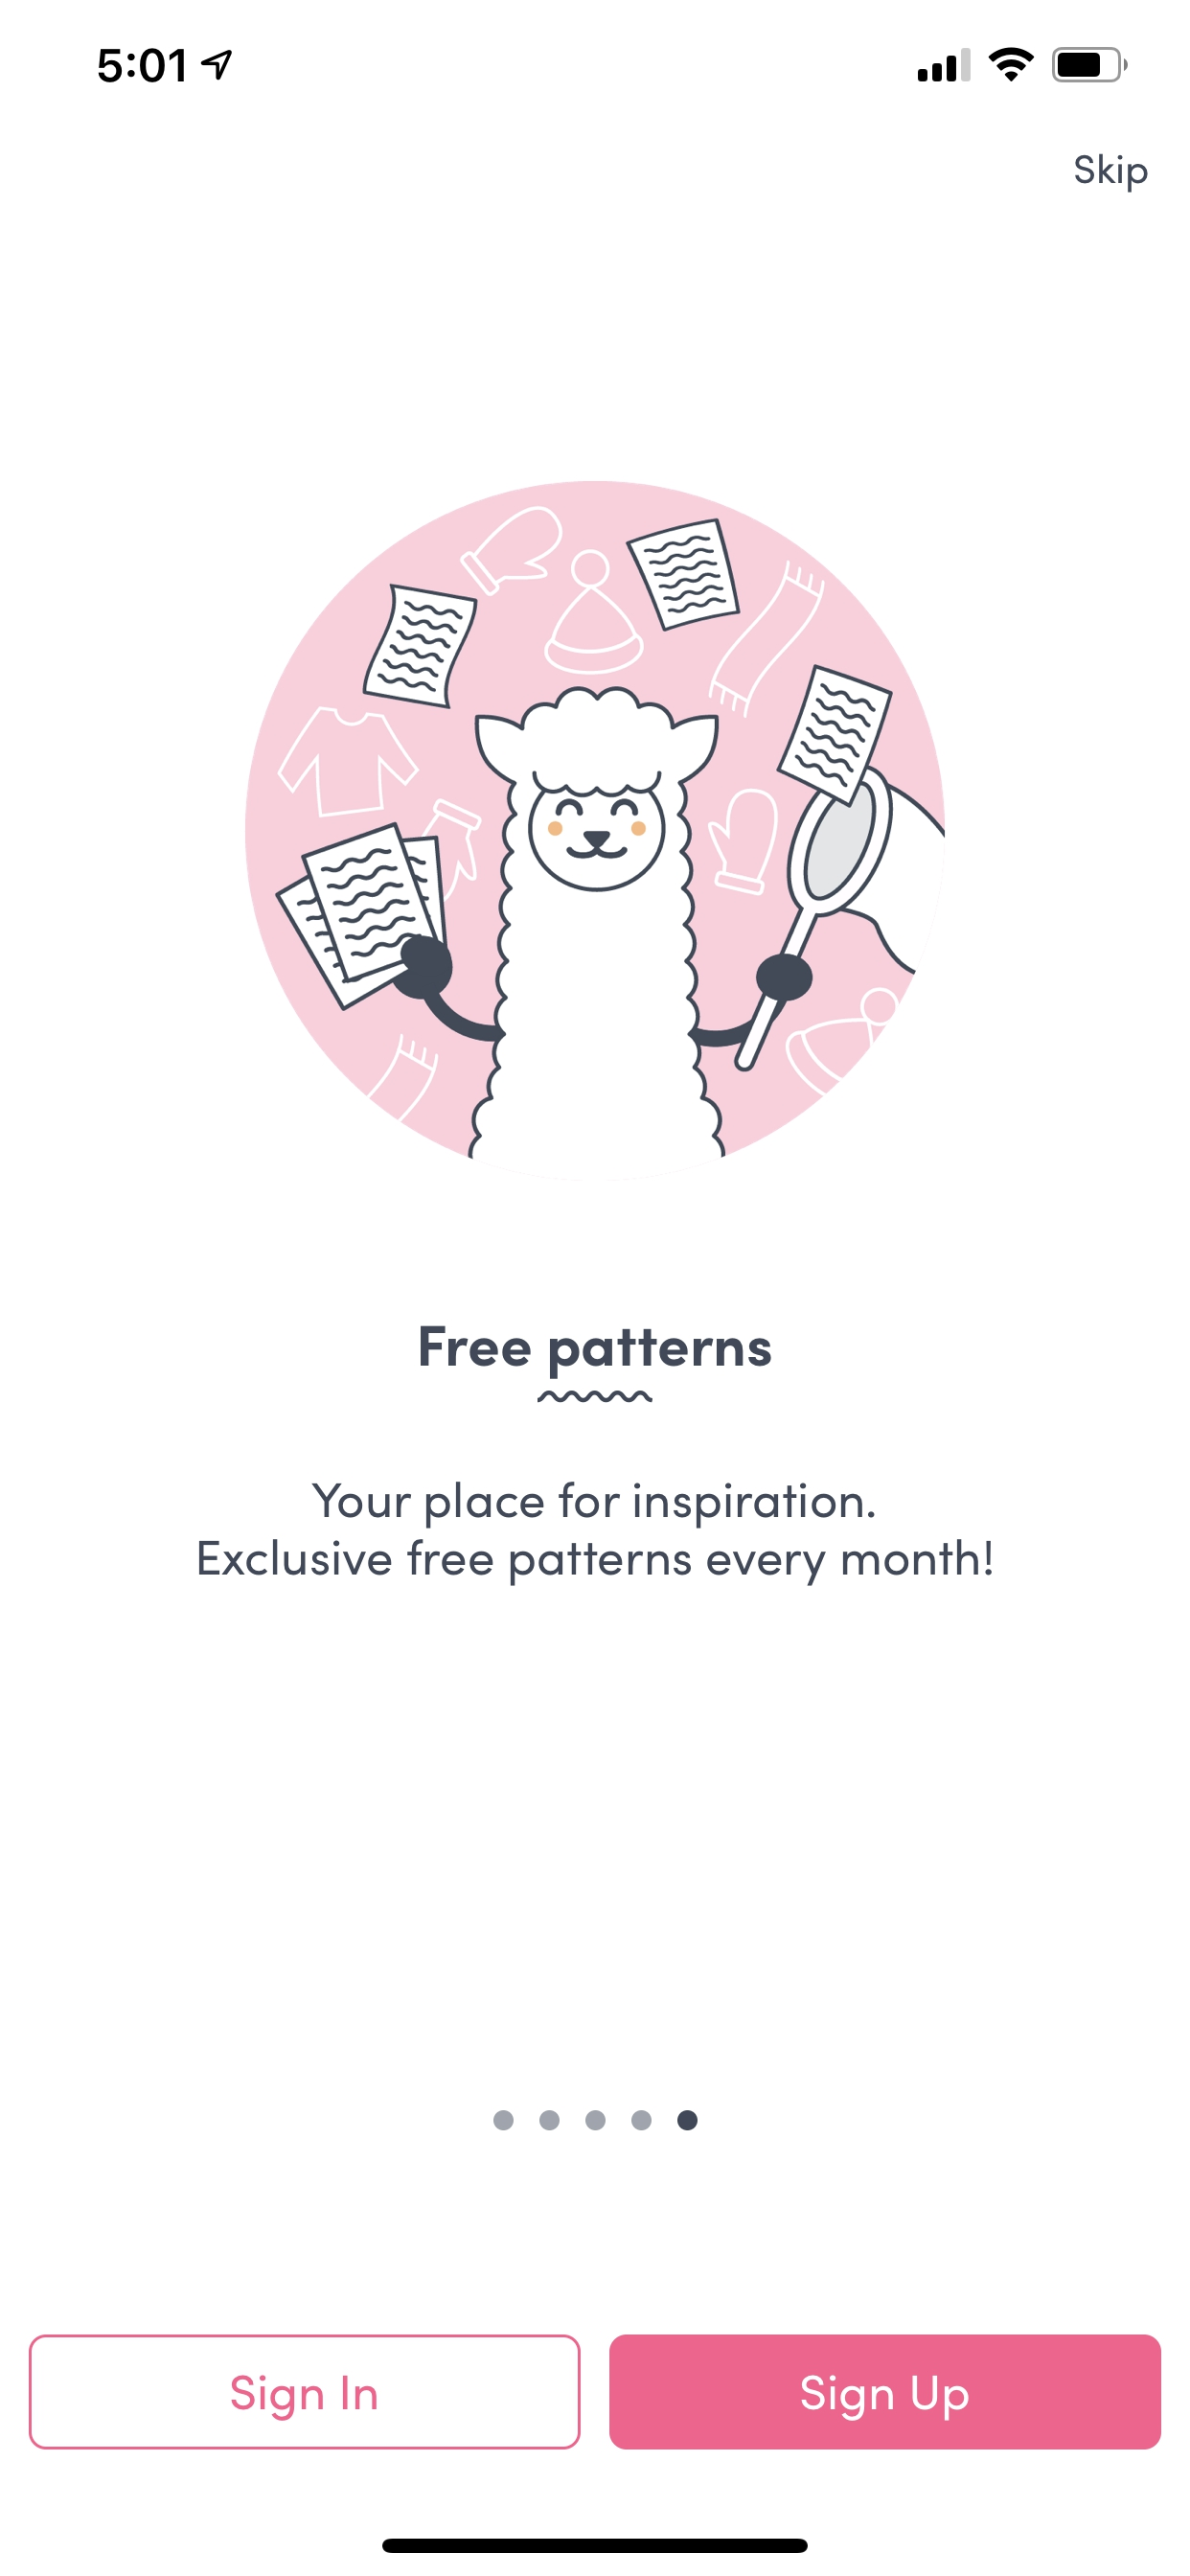Image: (245, 481, 945, 1181)
PageIndicator: (493, 2109, 697, 2131)
Text: (199, 1482, 991, 1585), (421, 1326, 771, 1378), (1073, 153, 1147, 194)
TextButton: (610, 2333, 1162, 2449), (28, 2333, 580, 2449)
UpperTaskBar: (99, 48, 1128, 84)
